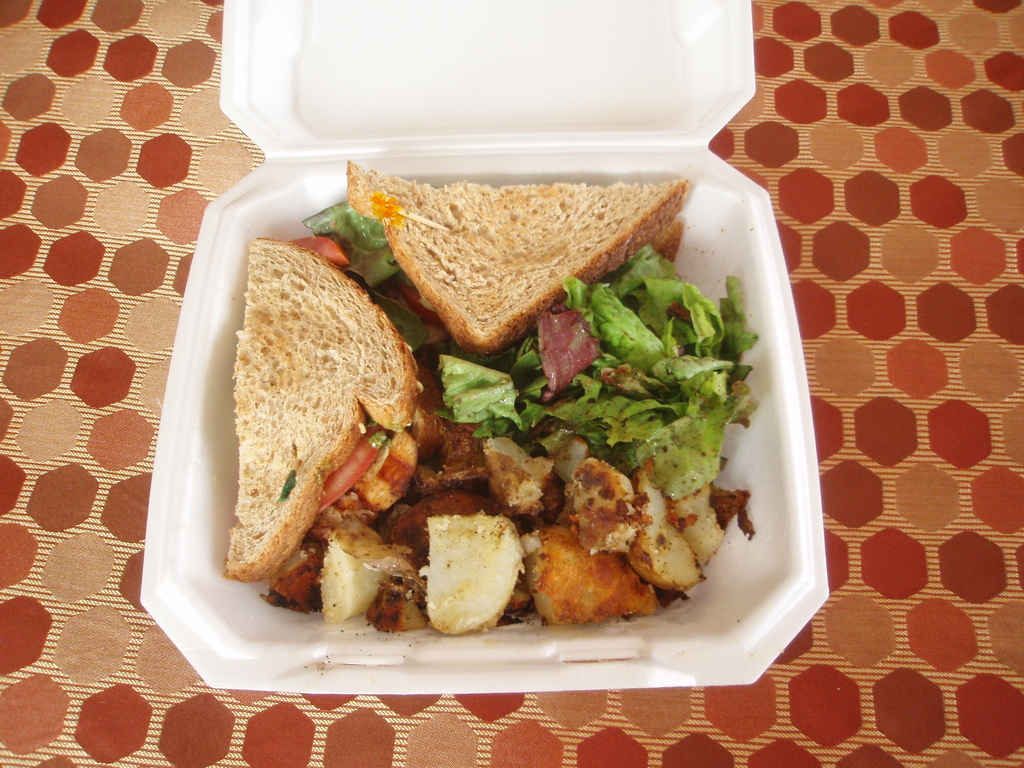sandwich: (213, 237, 438, 580), (339, 157, 687, 356)
